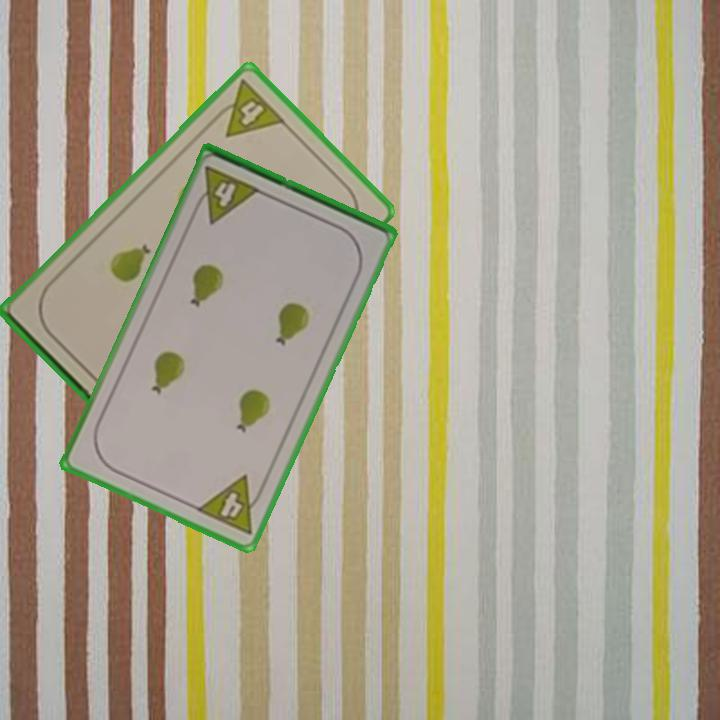4p: (207, 76, 288, 140), (193, 471, 269, 539), (189, 162, 264, 227)
